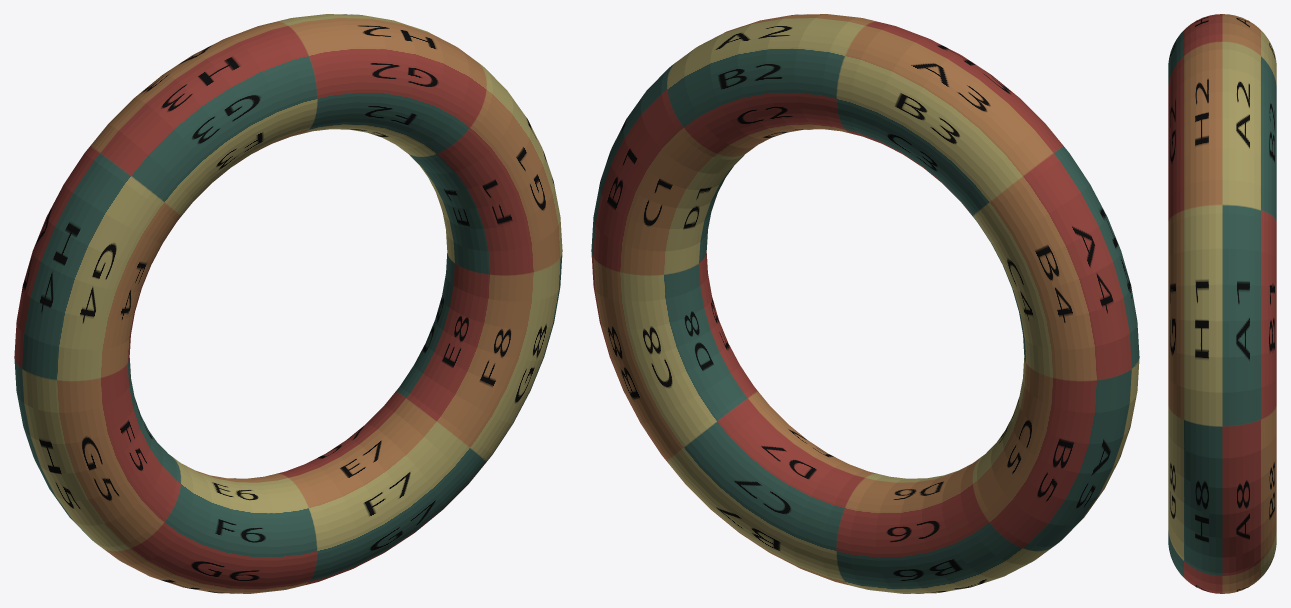
The model's file is texture_torus_R24_r15.glb.
3 renders of one model, left to right at view 1: azimuth 30°, elevation 25°; view 2: azimuth 150°, elevation 25°; view 3: azimuth 270°, elevation 25°, orthographic. The views are drawn at different scales.
Visible parts, largest first — view 1: world; view 2: world; view 3: world.
Boxes of the visible parts, x1=… form: world: x1=14, y1=14, x2=562, y2=593; world: x1=591, y1=14, x2=1139, y2=593; world: x1=1168, y1=14, x2=1276, y2=593.
Bounding box in the file's own units: 32 × 31.94 × 5.99.
1 material, 1 textured.
